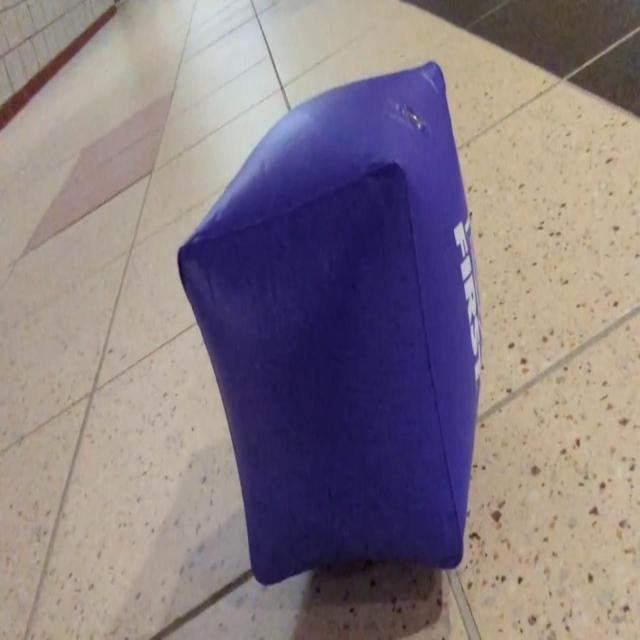frc_cube: (175, 61, 481, 590)
